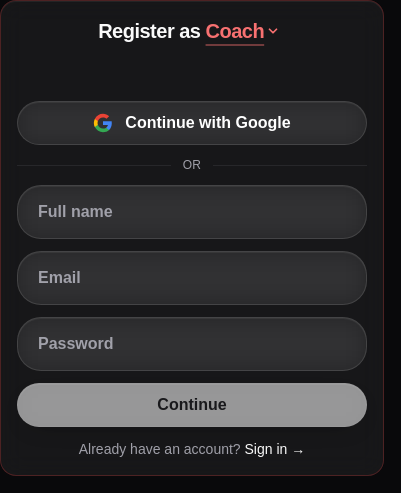
AuthPanel › animates back when switching to sign in and forward when returning to signup
Click the button "Sign in →".
click(275, 449)  # box x1=244 y1=439 x2=305 y2=459
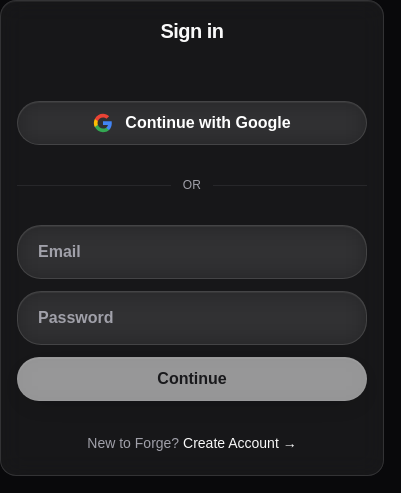
Now the heading "Sign in" is shown, box x1=160 y1=20 x2=224 y2=42
Click the button "Create Account →".
click(240, 443)  # box x1=183 y1=433 x2=297 y2=453
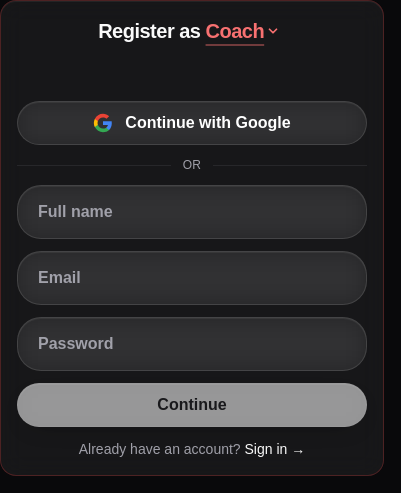
Now the heading "Register as Coach" is shown, box x1=98 y1=17 x2=280 y2=45
